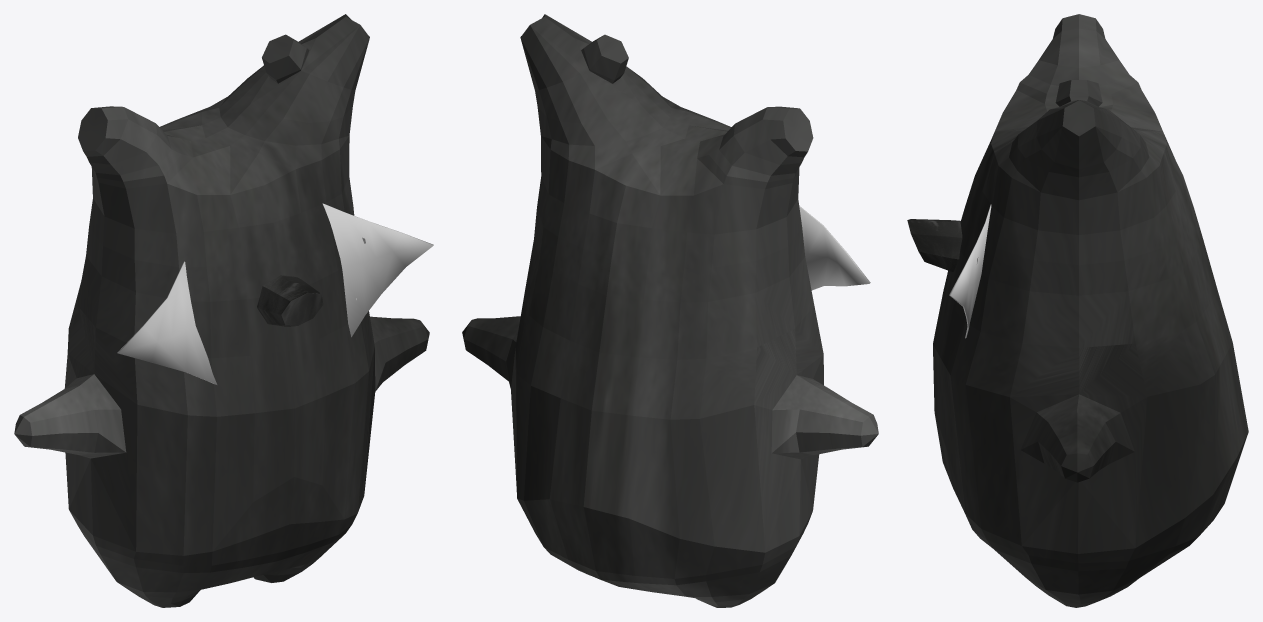
File: frame_0002.obj
The picture shows the model from 3 angles, left to right: view 1: azimuth 30°, elevation 25°; view 2: azimuth 150°, elevation 25°; view 3: azimuth 270°, elevation 25°; orthographic projection.
Parts seen in each view (by area): view 1: korok, leaf, nose; view 2: korok, leaf; view 3: korok, nose, leaf.
Boxes of the visible parts, box(x1,y1,x2,y2) form: korok: box(14, 14, 429, 607); leaf: box(117, 203, 433, 384); nose: box(257, 275, 323, 326); korok: box(462, 14, 878, 607); leaf: box(799, 206, 870, 290); korok: box(933, 14, 1248, 607); nose: box(907, 219, 962, 271); leaf: box(949, 204, 991, 338).
Size of the model in its own units: 1.85 by 2.32 by 1.33.
